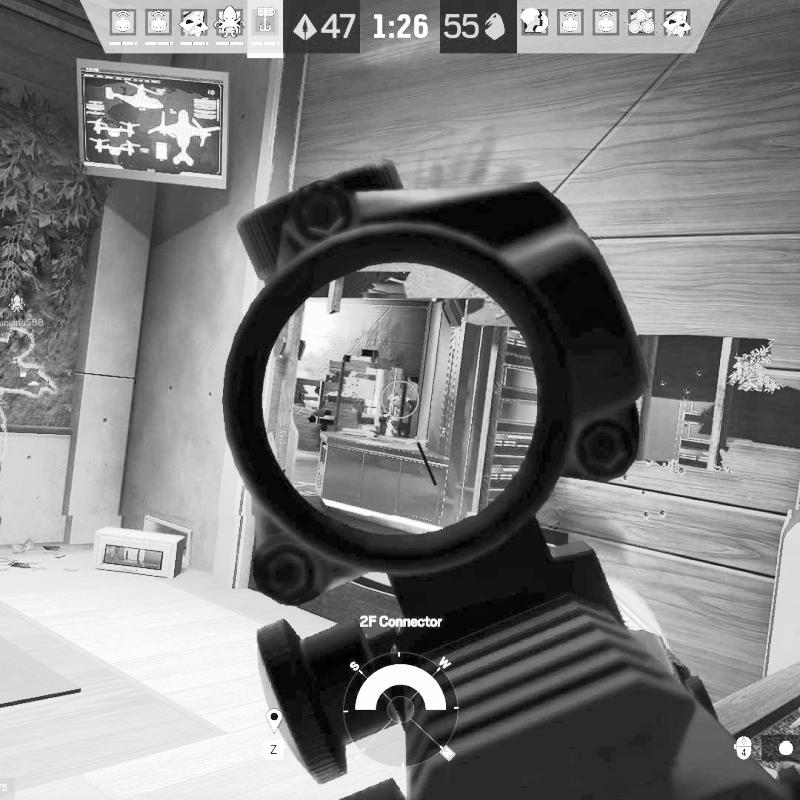Character: (386, 393, 408, 436)
Friend_label: (0, 292, 47, 328)
